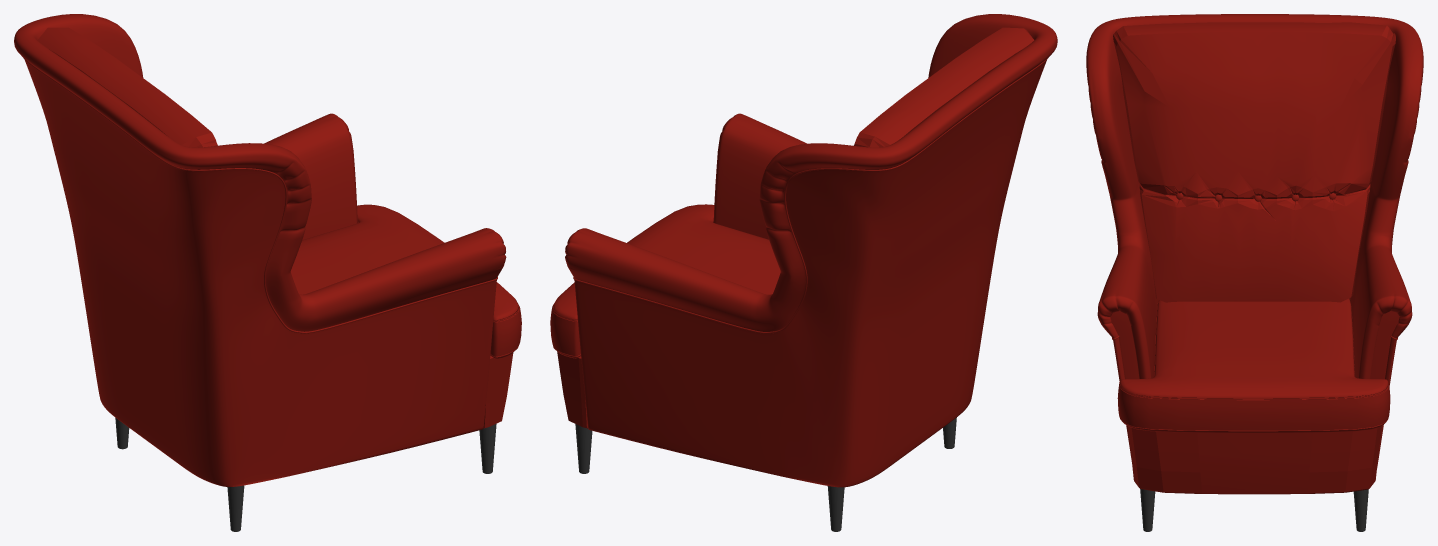
File: Strandmon_HI.fbx
3 views of the same model, side by side, from view 1: azimuth 30°, elevation 25°; view 2: azimuth 150°, elevation 25°; view 3: azimuth 270°, elevation 25° (orthographic). The views are drawn at different scales.
Visible parts, largest first — view 1: Line003, Box003, Box004, Cylinder001, Plane001, Shape001; view 2: Line003, Box003, Box004, Cylinder001, Plane001, Shape001; view 3: Box004, Box003, Line003, Plane001, Line006, Line007, Cylinder001.
Boxes of the visible parts, left/top/right/bottom form: Line003: left=14, top=14, right=506, bottom=486; Box003: left=290, top=204, right=521, bottom=358; Box004: left=37, top=27, right=217, bottom=147; Cylinder001: left=115, top=418, right=496, bottom=531; Plane001: left=483, top=353, right=513, bottom=428; Shape001: left=23, top=57, right=497, bottom=333; Line003: left=565, top=14, right=1057, bottom=487; Box003: left=550, top=204, right=780, bottom=358; Box004: left=854, top=27, right=1034, bottom=147; Cylinder001: left=575, top=417, right=956, bottom=531; Plane001: left=557, top=351, right=588, bottom=428; Shape001: left=573, top=57, right=1048, bottom=333; Box004: left=1113, top=22, right=1395, bottom=302; Box003: left=1117, top=298, right=1390, bottom=432; Line003: left=1086, top=14, right=1423, bottom=467; Plane001: left=1127, top=426, right=1381, bottom=494; Line006: left=1370, top=311, right=1399, bottom=379; Line007: left=1110, top=311, right=1139, bottom=379; Cylinder001: left=1140, top=488, right=1368, bottom=531.
Size of the model in its own units: 965 by 1043 by 848.
